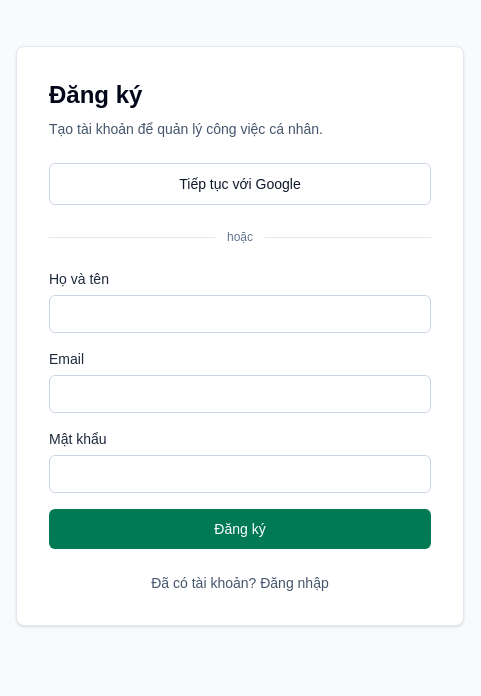
Scenario: AuthCard › renders a clear email confirmation state after sign-up without a session
The width and height of the screenshot is (481, 696).
Type "An" into the field labelled "Họ và tên" at (240, 314), box [49, 295, 431, 333]
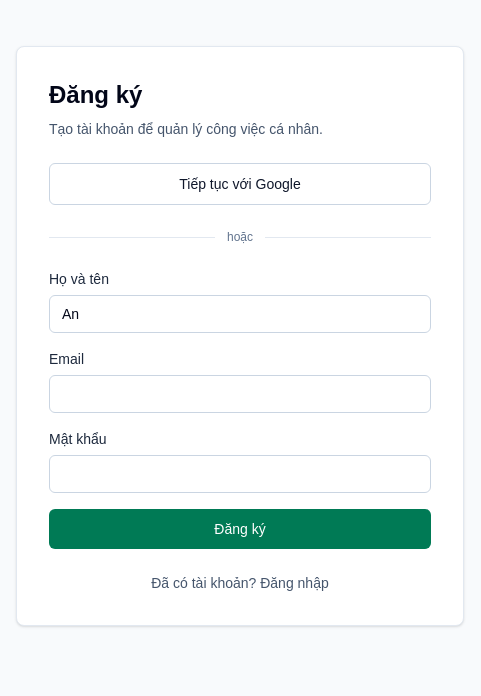
Type "an@example.com" into the field labelled "Email" at (240, 394), box [49, 375, 431, 413]
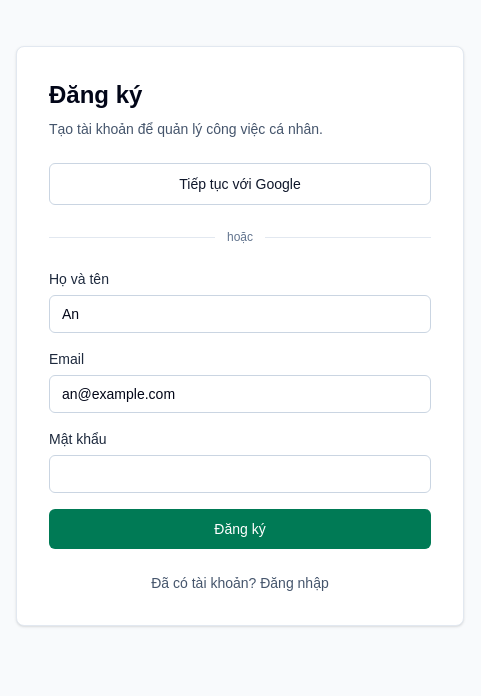
Type "12345678" into the password field labelled "Mật khẩu" at (240, 474), box [49, 455, 431, 493]
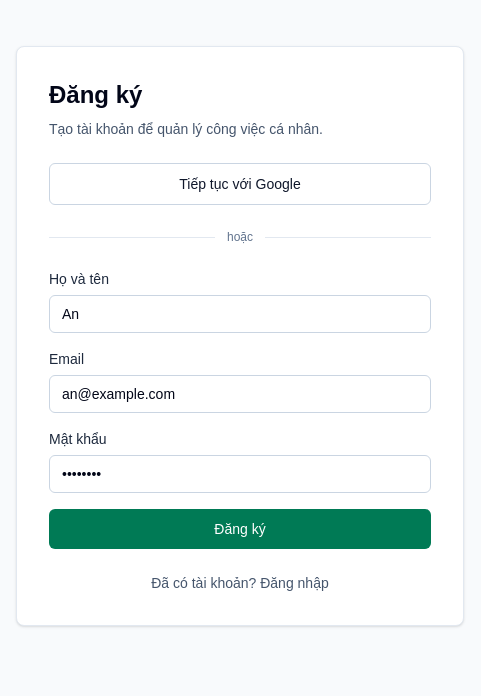
Click the button "Đăng ký" at (240, 529), box [49, 509, 431, 549]
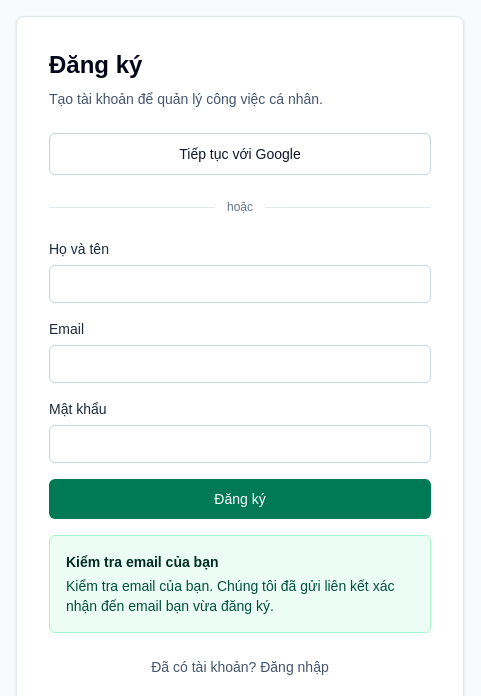
Expected: the heading "Kiểm tra email của bạn" is shown, [66, 554, 218, 570]
Expected: the message shows "Chúng tôi đã gửi liên kết xác nhận đến email bạn vừa đăng ký.", [66, 578, 394, 614]
